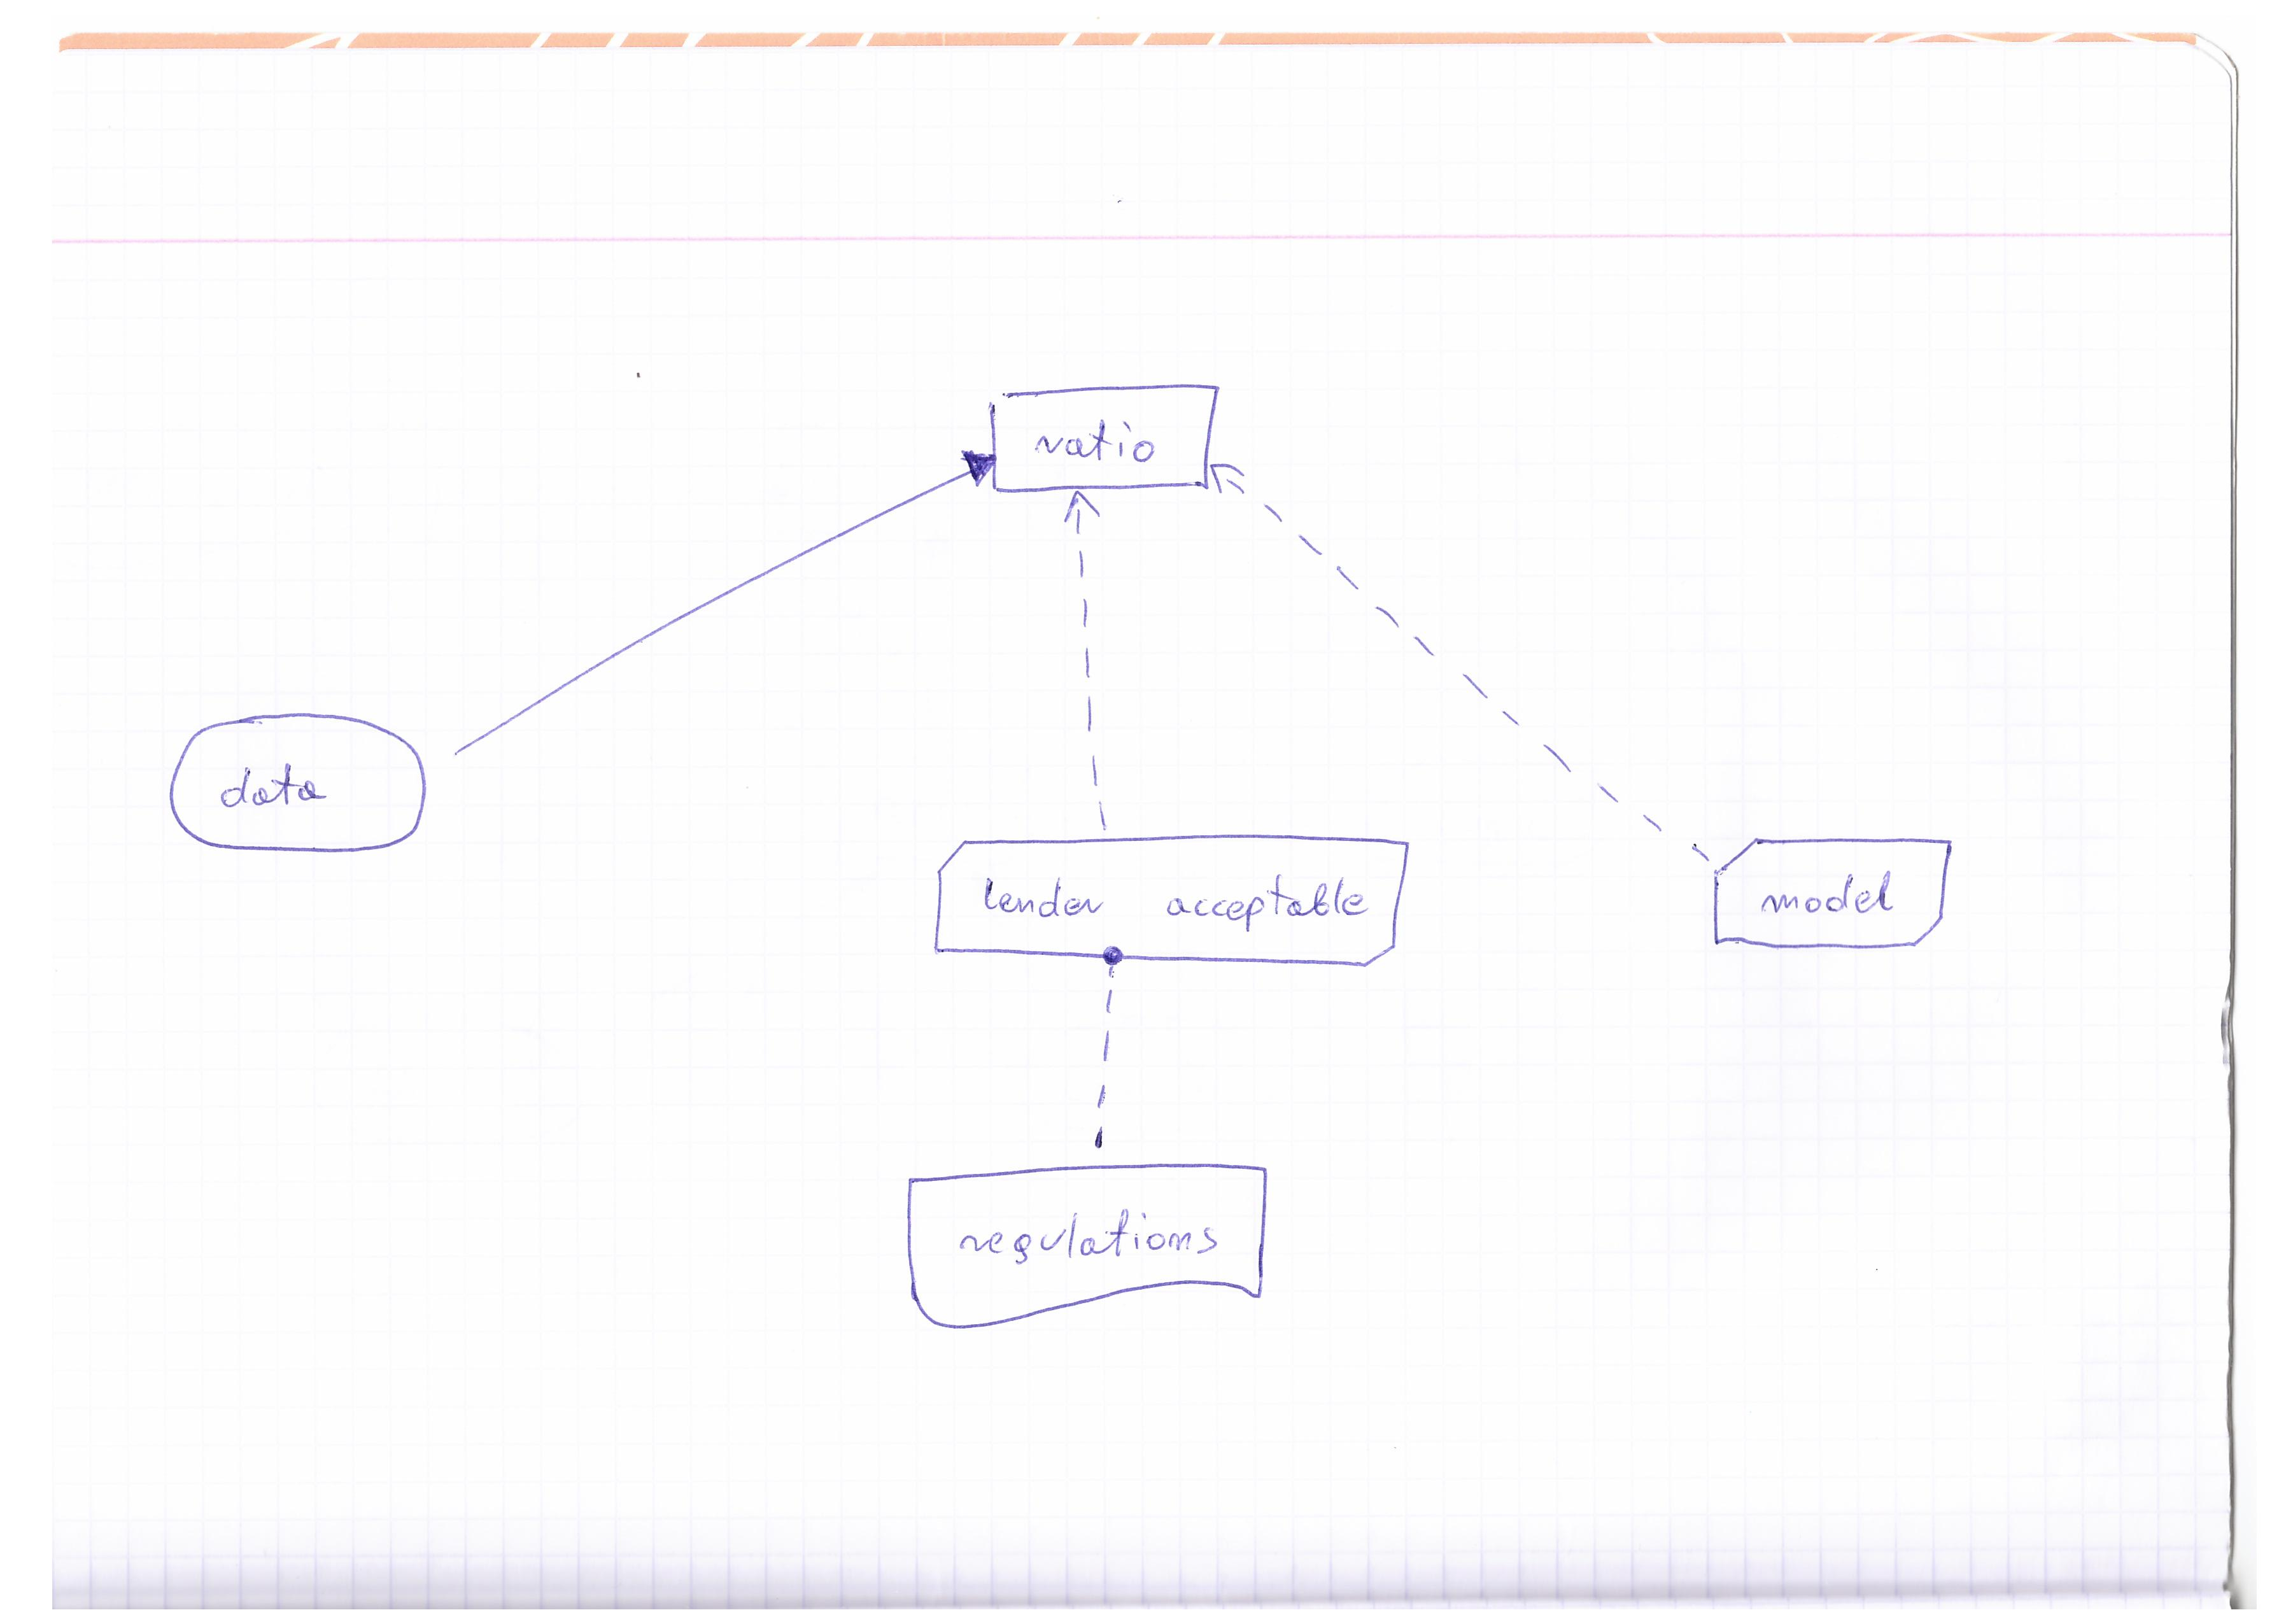arrow_authority_requirement: (1091, 939, 1125, 1155)
arrow_information_requirement: (445, 436, 998, 777)
arrow_knowledge_requirement: (1191, 448, 1729, 868), (1046, 485, 1142, 835)
node_decision: (979, 381, 1226, 497)
node_input_data: (153, 705, 438, 872)
node_knowledge_model: (926, 826, 1406, 979), (1699, 816, 1984, 961)
node_knowledge_source: (873, 1153, 1292, 1336)
text: (968, 858, 1374, 944), (938, 1199, 1246, 1272), (200, 742, 341, 823), (1743, 865, 1915, 928), (1021, 411, 1167, 476)
